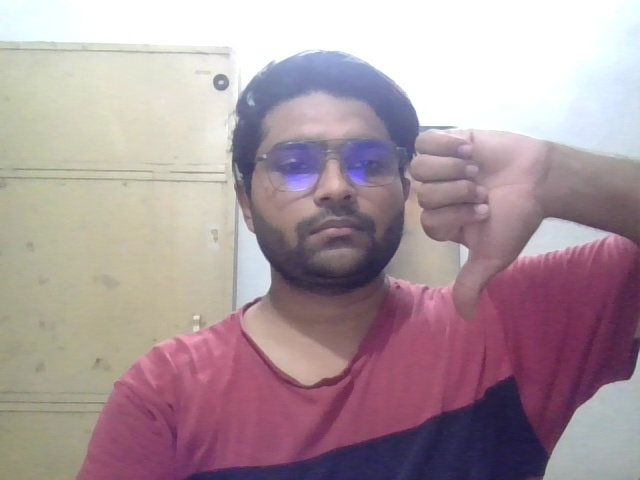ThumbsDown: (406, 123, 535, 328)
